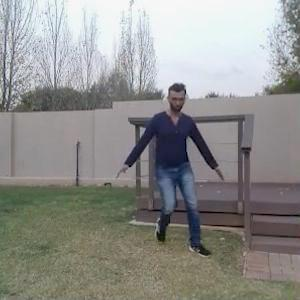land: (118, 79, 223, 260)
